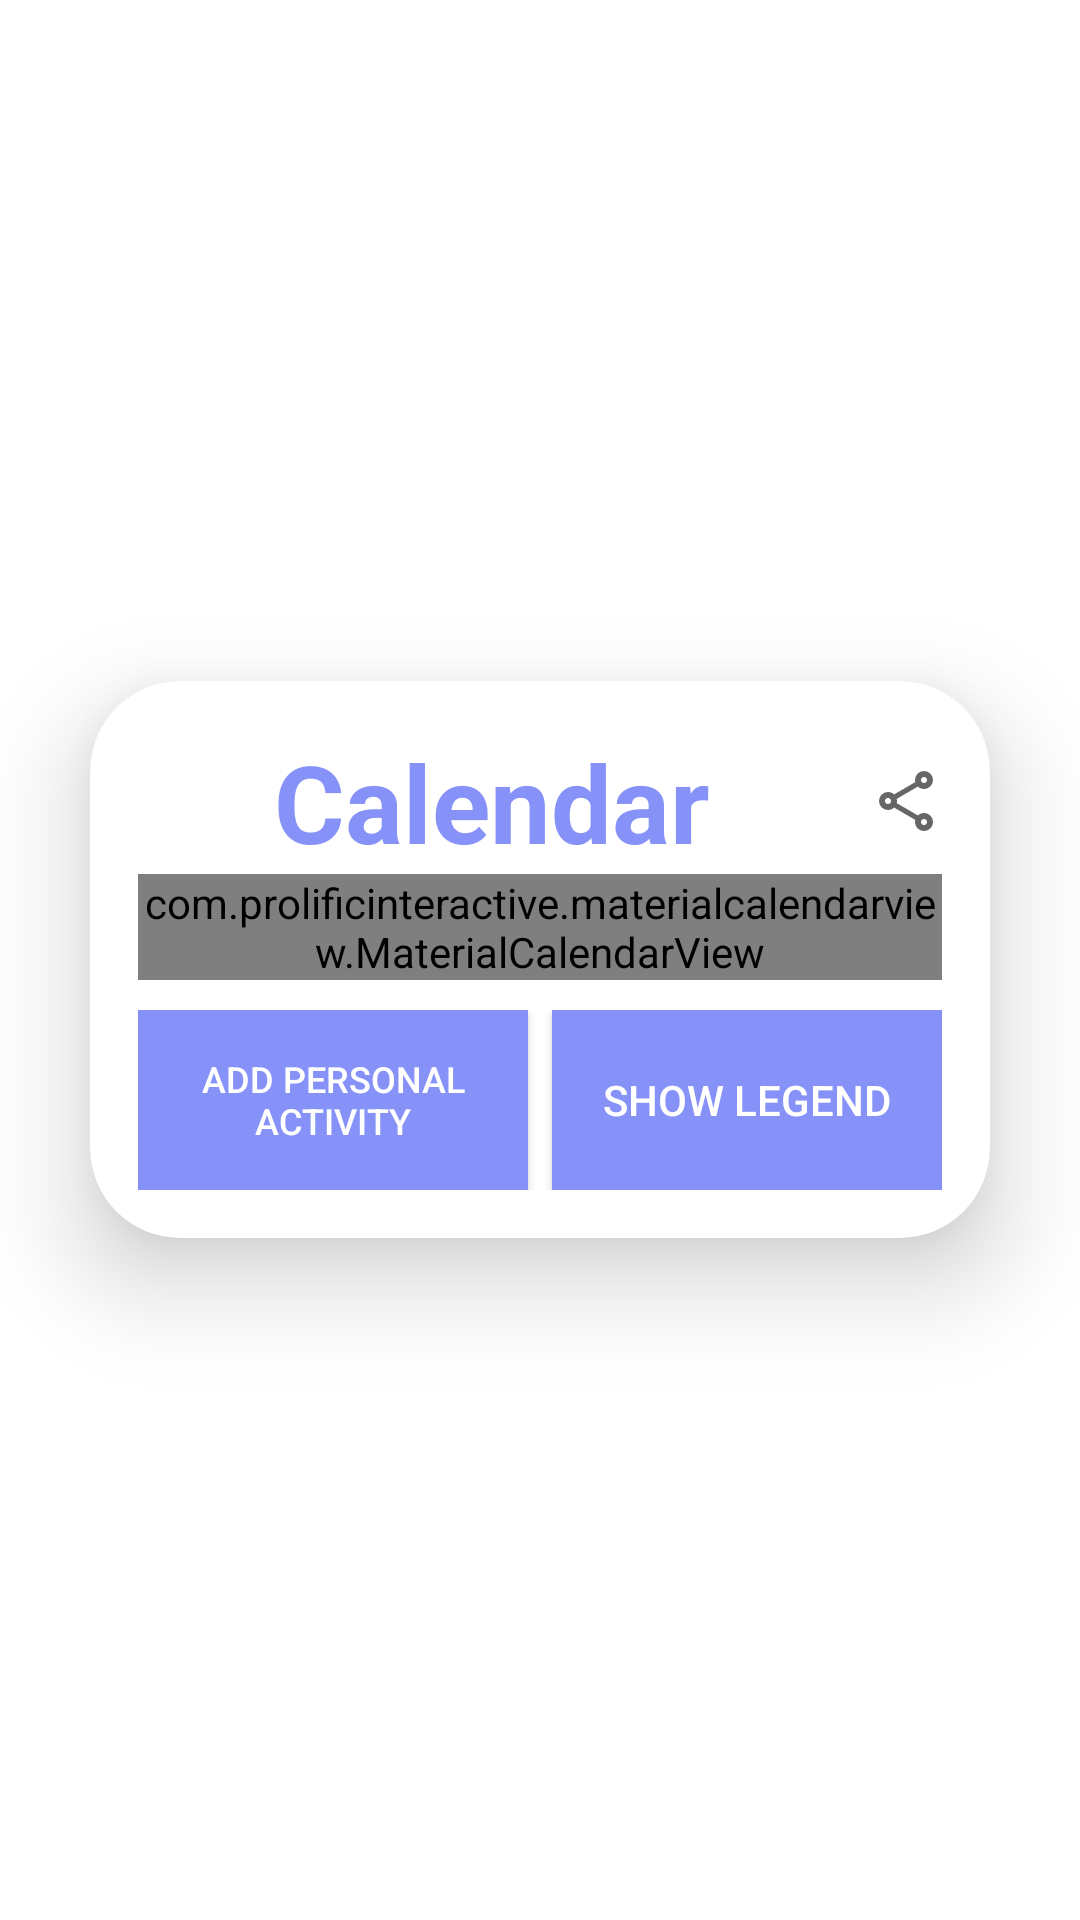

Where to tap for icons on this 1080px×1920px app screen, as [x,y]:
Share Icon: [906,801]
